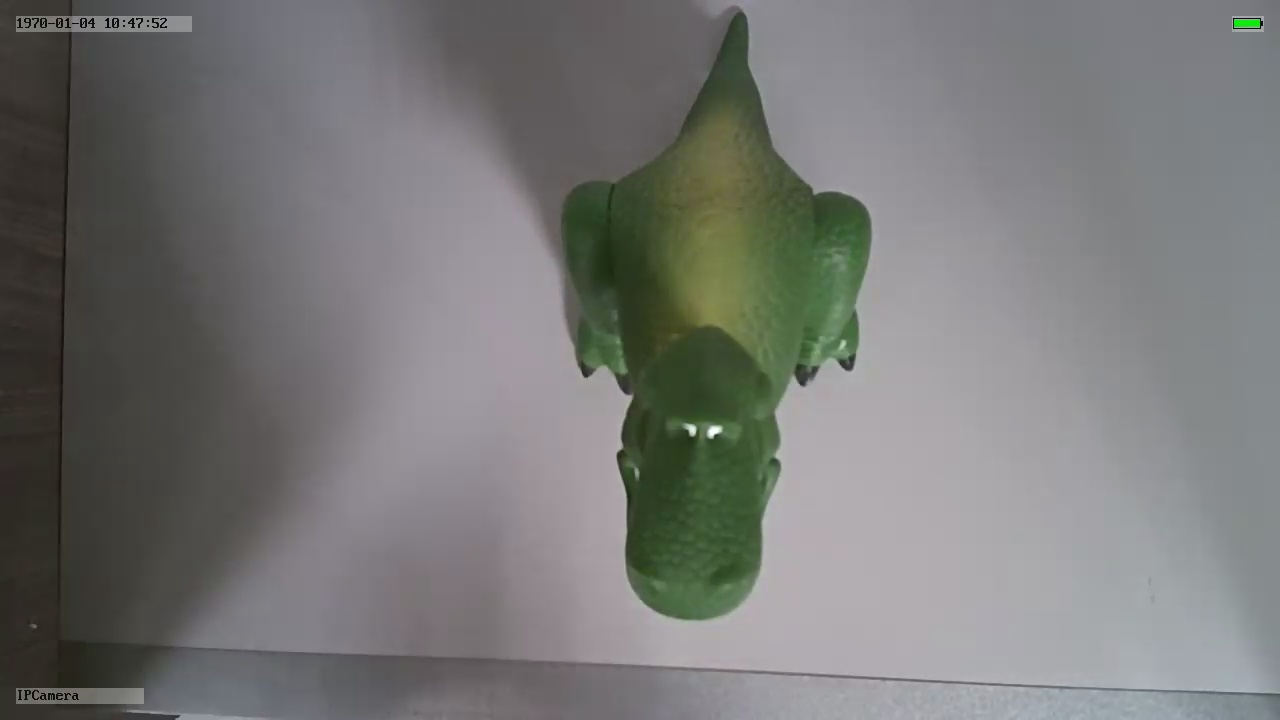rex: (559, 92, 878, 627)
